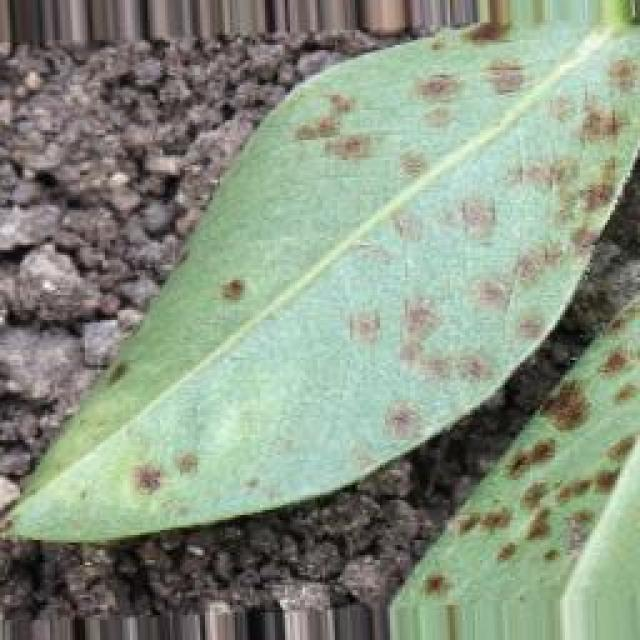Whitefly: (53, 0, 640, 640)
